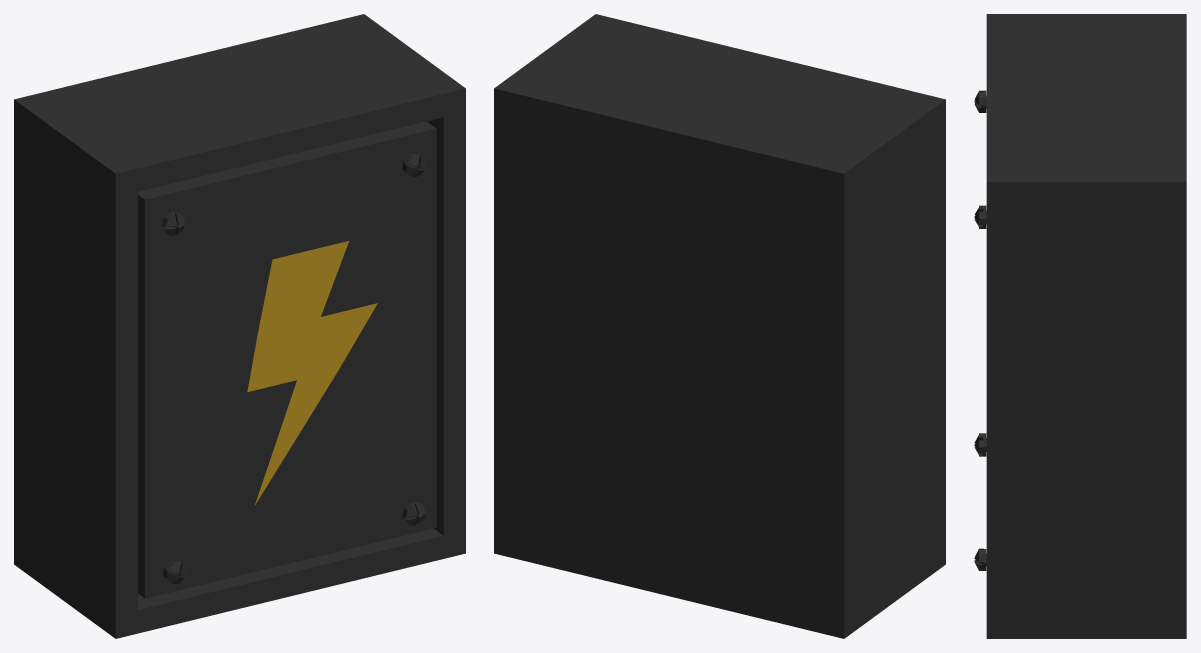
Rendered from decor_circuitbox.fbx.
The picture shows the model from 3 angles, left to right: view 1: azimuth 30°, elevation 25°; view 2: azimuth 150°, elevation 25°; view 3: azimuth 270°, elevation 25°; orthographic projection.
Parts seen in each view (by area): view 1: decor_circuitbox, decor_circuitboxpanel; view 2: decor_circuitbox; view 3: decor_circuitbox.
Boxes of the visible parts, x1,y1,x2,y2 form: decor_circuitbox: [14, 14, 465, 638]; decor_circuitboxpanel: [150, 135, 431, 592]; decor_circuitbox: [494, 14, 945, 638]; decor_circuitbox: [986, 14, 1186, 638].
Bounding box in the file's own units: 29.33 × 37.23 × 15.66.
